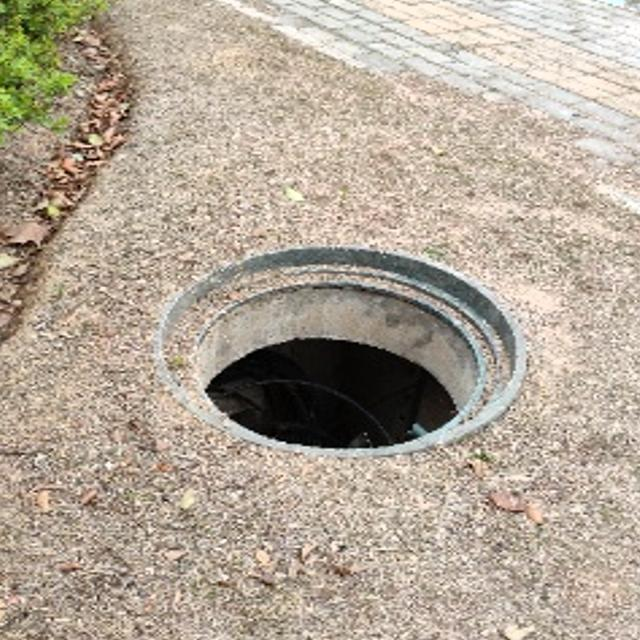lose: (157, 242, 527, 457)
